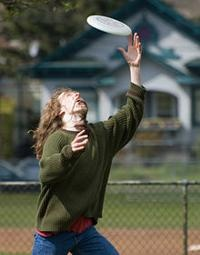person without safety: (27, 82, 115, 247)
